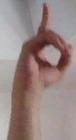D1: (0, 0, 76, 93)
